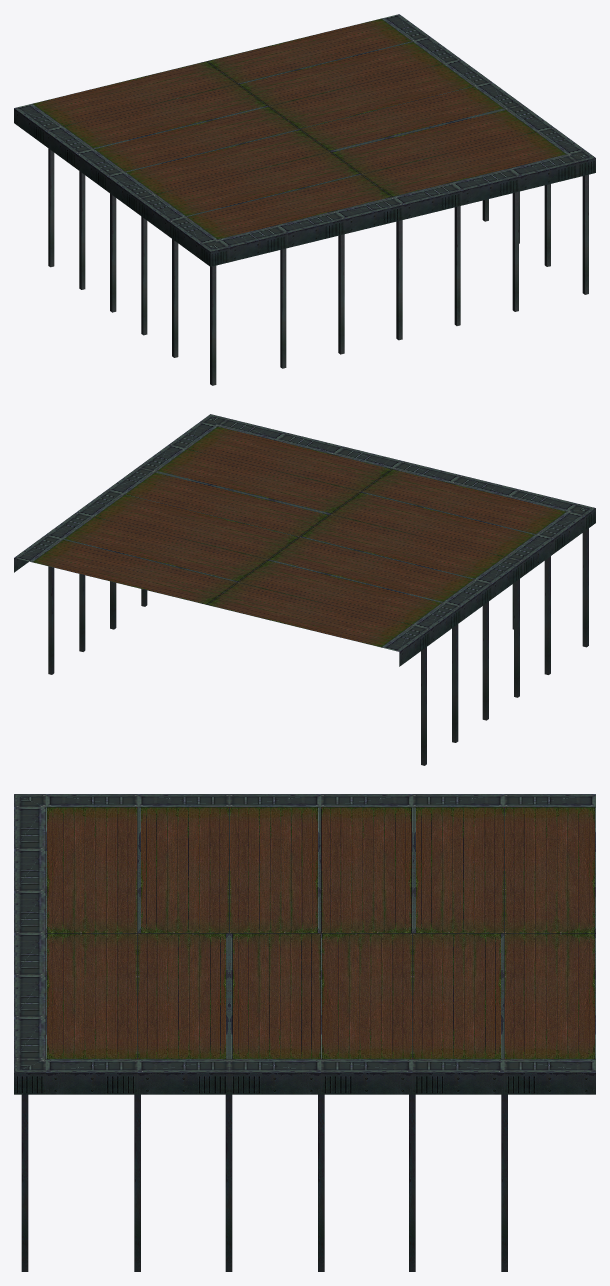
The model's file is yw_museyulin_pingtai02.FBX.
3 views of the same model, one above another, from view 1: azimuth 30°, elevation 25°; view 2: azimuth 150°, elevation 25°; view 3: azimuth 270°, elevation 25° (orthographic). The views are drawn at different scales.
Visible parts, largest first — view 1: yw_museyulin_pingtai02; view 2: yw_museyulin_pingtai02; view 3: yw_museyulin_pingtai02.
Part boxes in pixels (<box>): yw_museyulin_pingtai02: <box>14,14,595,385</box>; yw_museyulin_pingtai02: <box>14,414,595,765</box>; yw_museyulin_pingtai02: <box>14,794,595,1271</box>.
Size of the model in its own units: 2081 by 706 by 1838.
